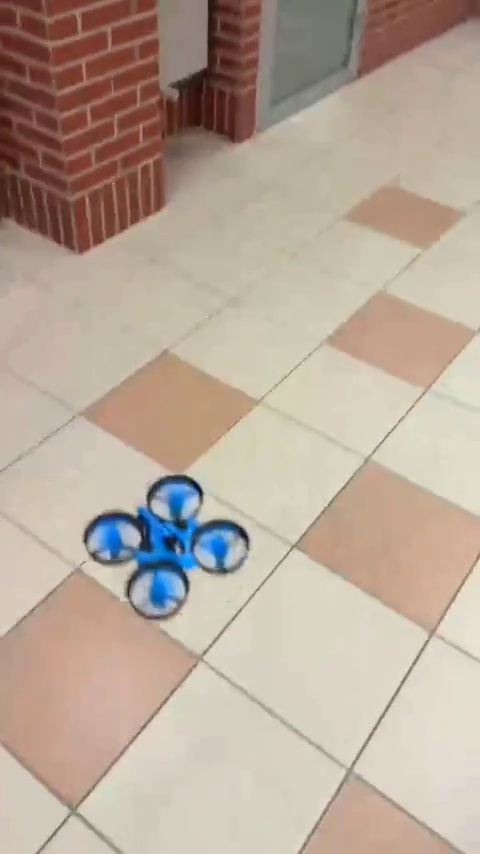drone: (80, 473, 251, 613)
